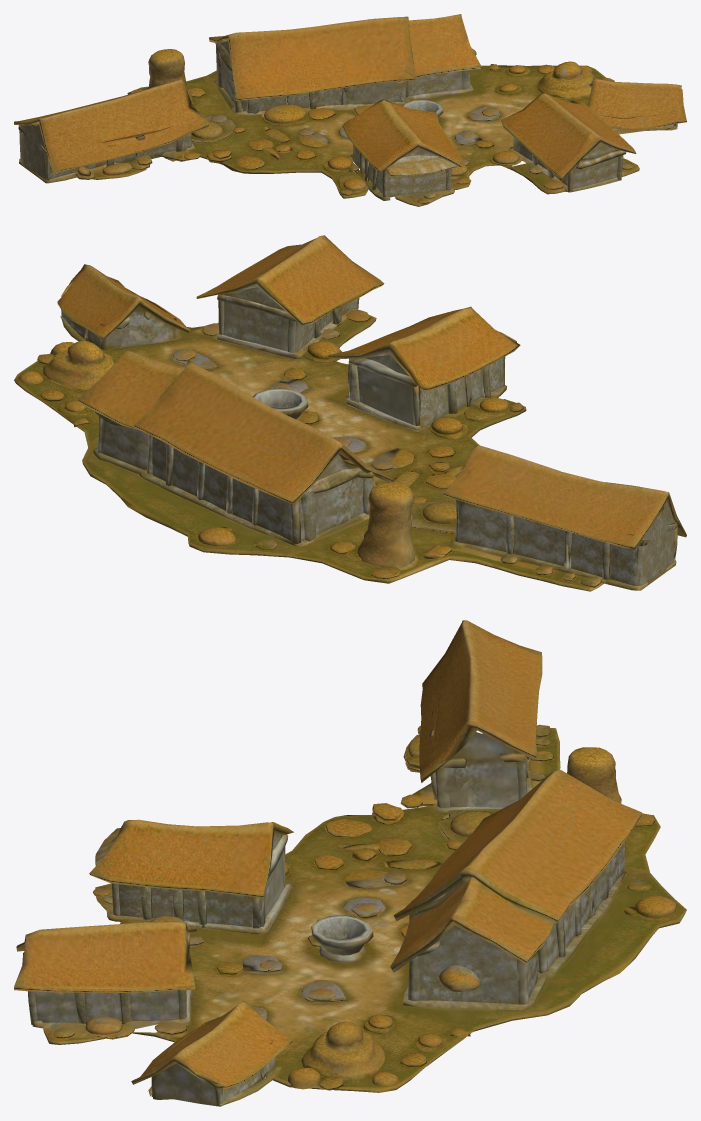
Rendered from site_village.glb.
The picture shows the model from 3 angles, top to bottom: view 1: azimuth 30°, elevation 25°; view 2: azimuth 150°, elevation 25°; view 3: azimuth 270°, elevation 25°; orthographic projection. The views are drawn at different scales.
Size of the model in its own units: 1 by 0.131 by 0.7155.
Materials: 1 (1 with a texture image).
